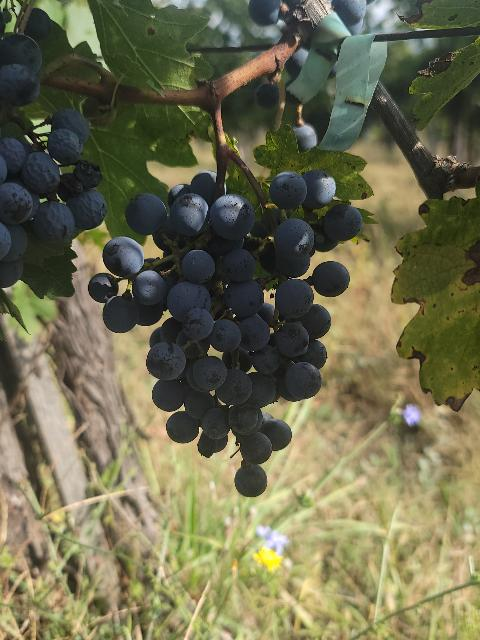grapes: (89, 169, 362, 498), (0, 5, 108, 288)
